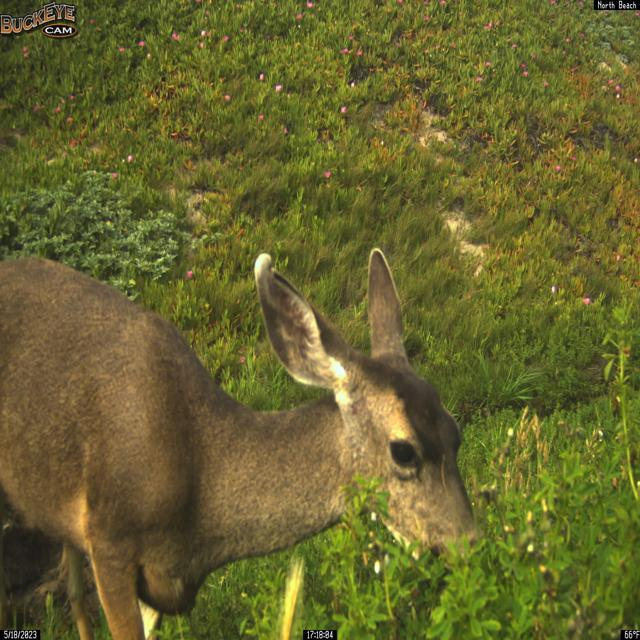deer: (0, 247, 484, 640)
